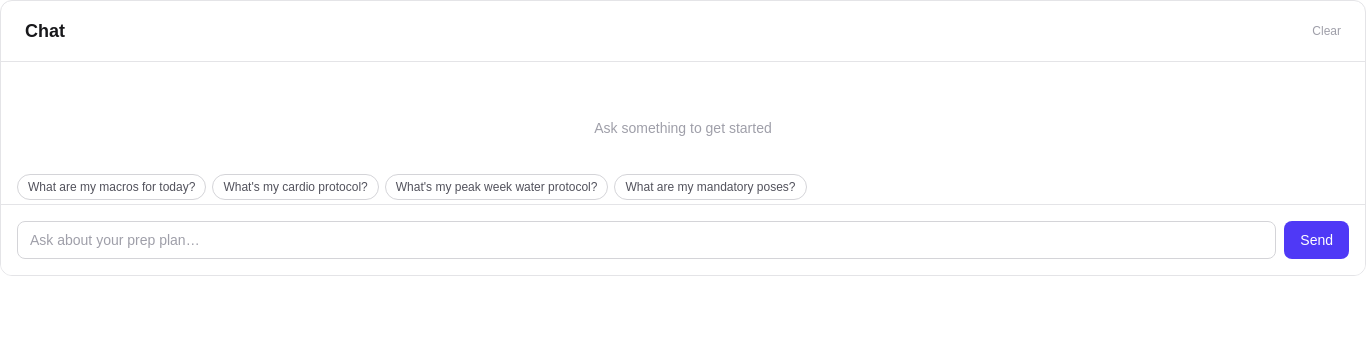
Test case: Task 9: Frontend UI — Chat Interface › should display a user message after sending
This screenshot has width=1366, height=351.
Type "What is my carb target?" into the field at (647, 240), box top-left (17, 221), bottom-right (1276, 259)
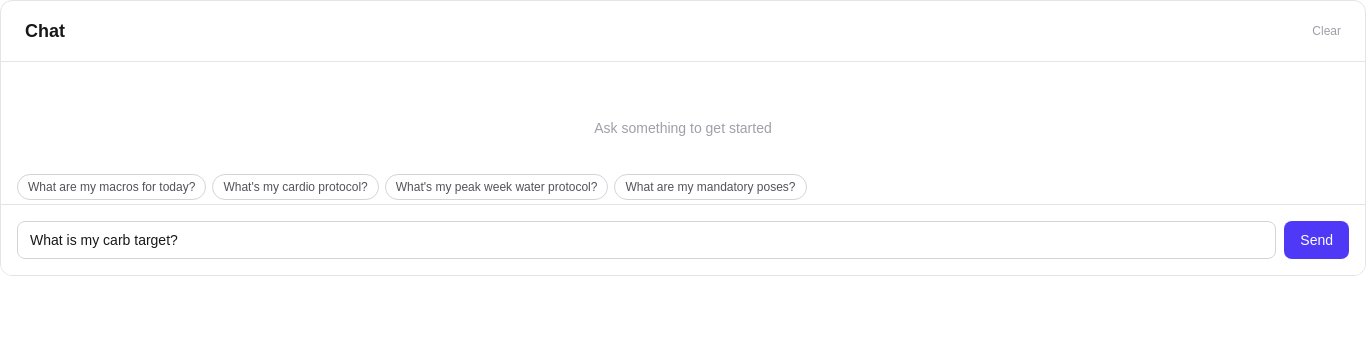
Click the button "Send" at (1317, 240), box top-left (1284, 221), bottom-right (1349, 259)
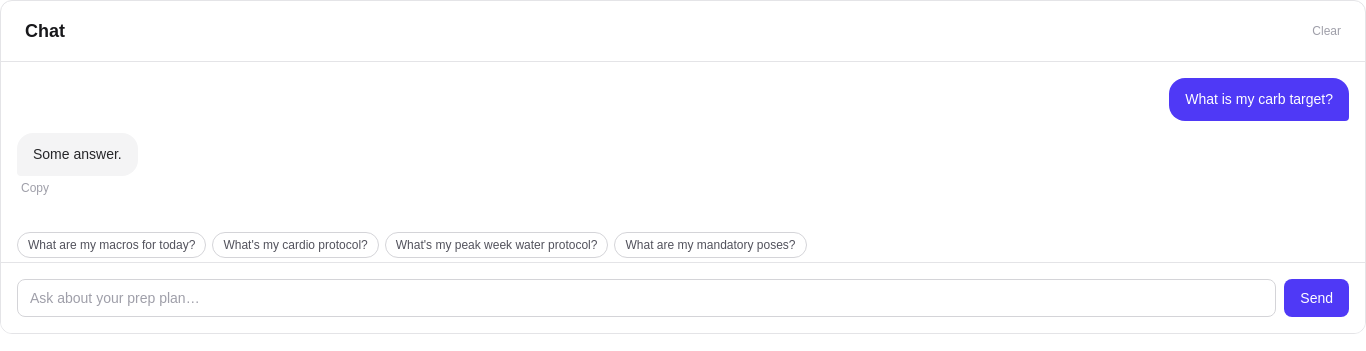
Now the text "What is my carb target?" is shown, box top-left (1185, 88), bottom-right (1333, 111)
